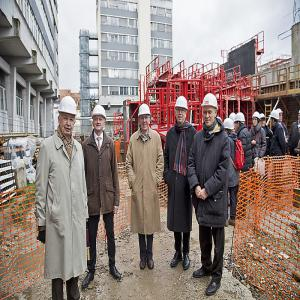white: (57, 96, 79, 141), (201, 93, 219, 129), (91, 104, 108, 136), (174, 96, 190, 128), (139, 102, 153, 133), (235, 112, 247, 133), (224, 117, 235, 139), (271, 110, 281, 128), (253, 112, 262, 129), (260, 112, 268, 129)
